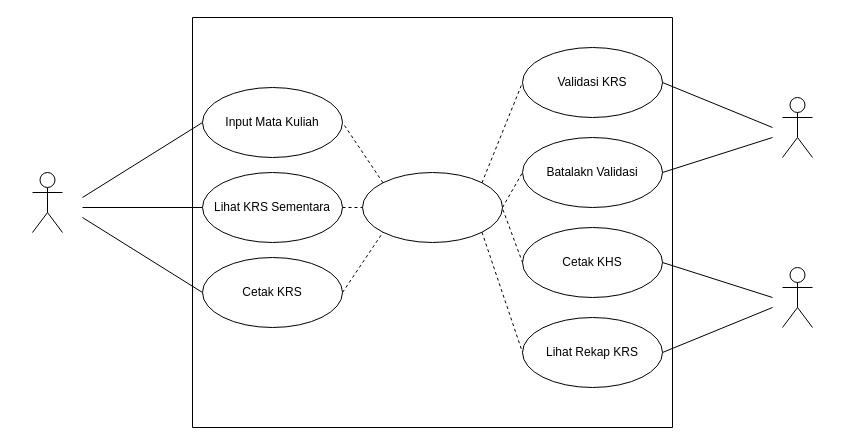
Some shapes in this 861 by 445 pixel diagram are drawn without their labels. Here are the shapes that lost their labels. From the top down, the box of each, then its label:
(782, 96, 812, 158): Dosen wali
(32, 172, 62, 232): Mahasiswa
(362, 172, 502, 242): Login
(782, 266, 812, 328): Bagian Akademik
